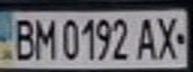0: (57, 15, 81, 61)
1: (78, 15, 96, 61)
2: (109, 15, 133, 62)
9: (93, 15, 115, 61)
A: (133, 14, 160, 61)
B: (6, 15, 39, 62)
M: (30, 15, 57, 61)
X: (154, 12, 187, 61)
